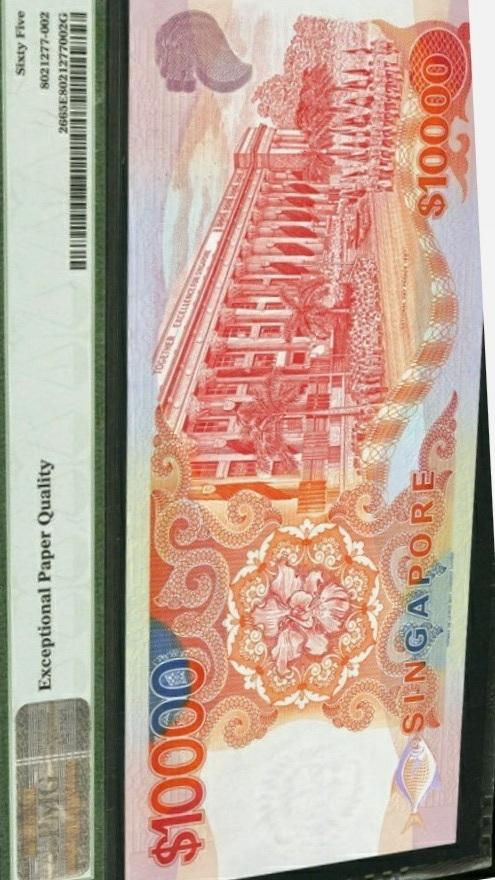10000SingaporeDollar: (132, 0, 470, 867)
